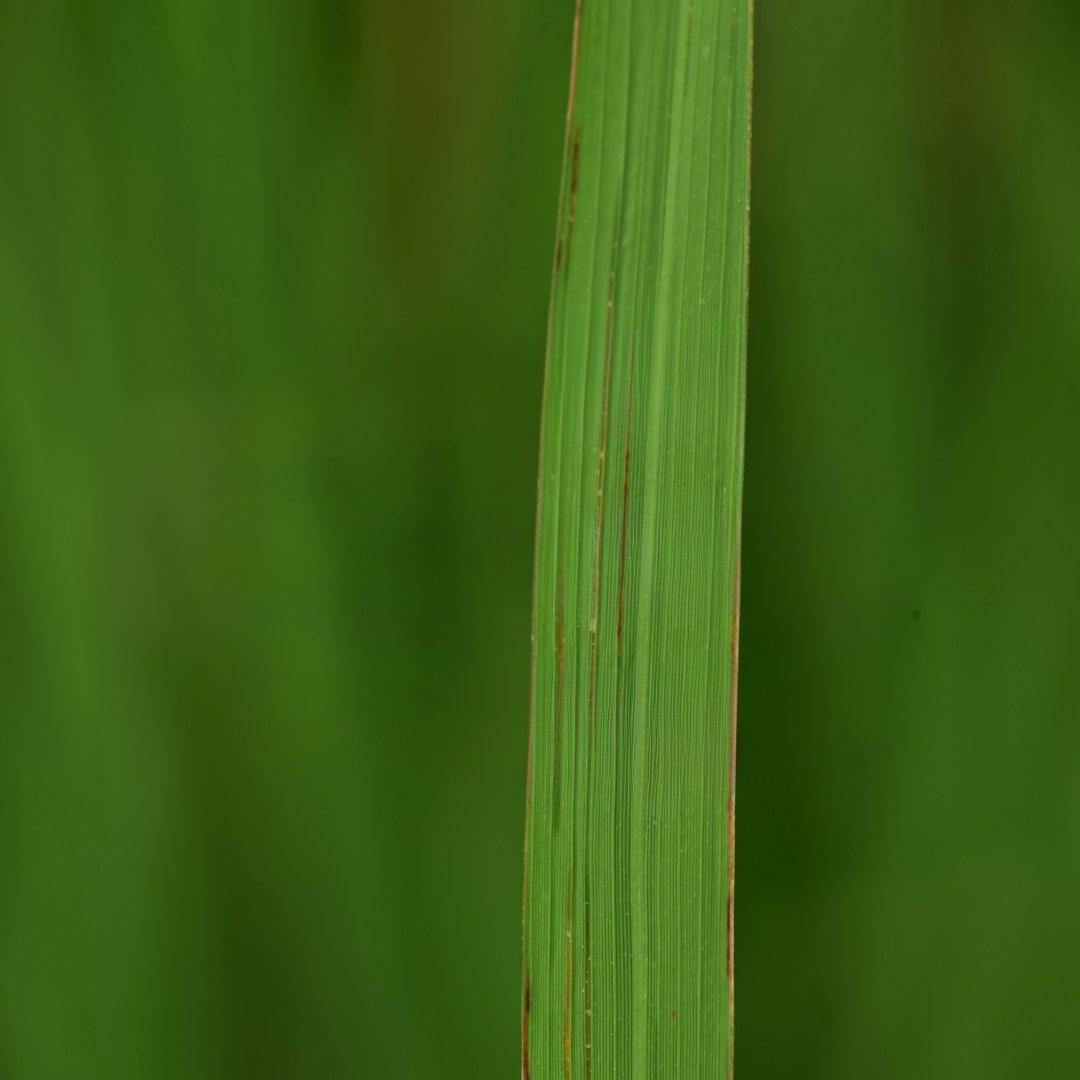BLS: (590, 216, 616, 716), (727, 499, 741, 1079), (556, 0, 583, 275), (564, 836, 575, 1078), (617, 445, 629, 652), (566, 129, 580, 278), (522, 867, 531, 1079), (586, 828, 591, 1079), (558, 584, 564, 696)
LEAF: (519, 0, 751, 1079)
